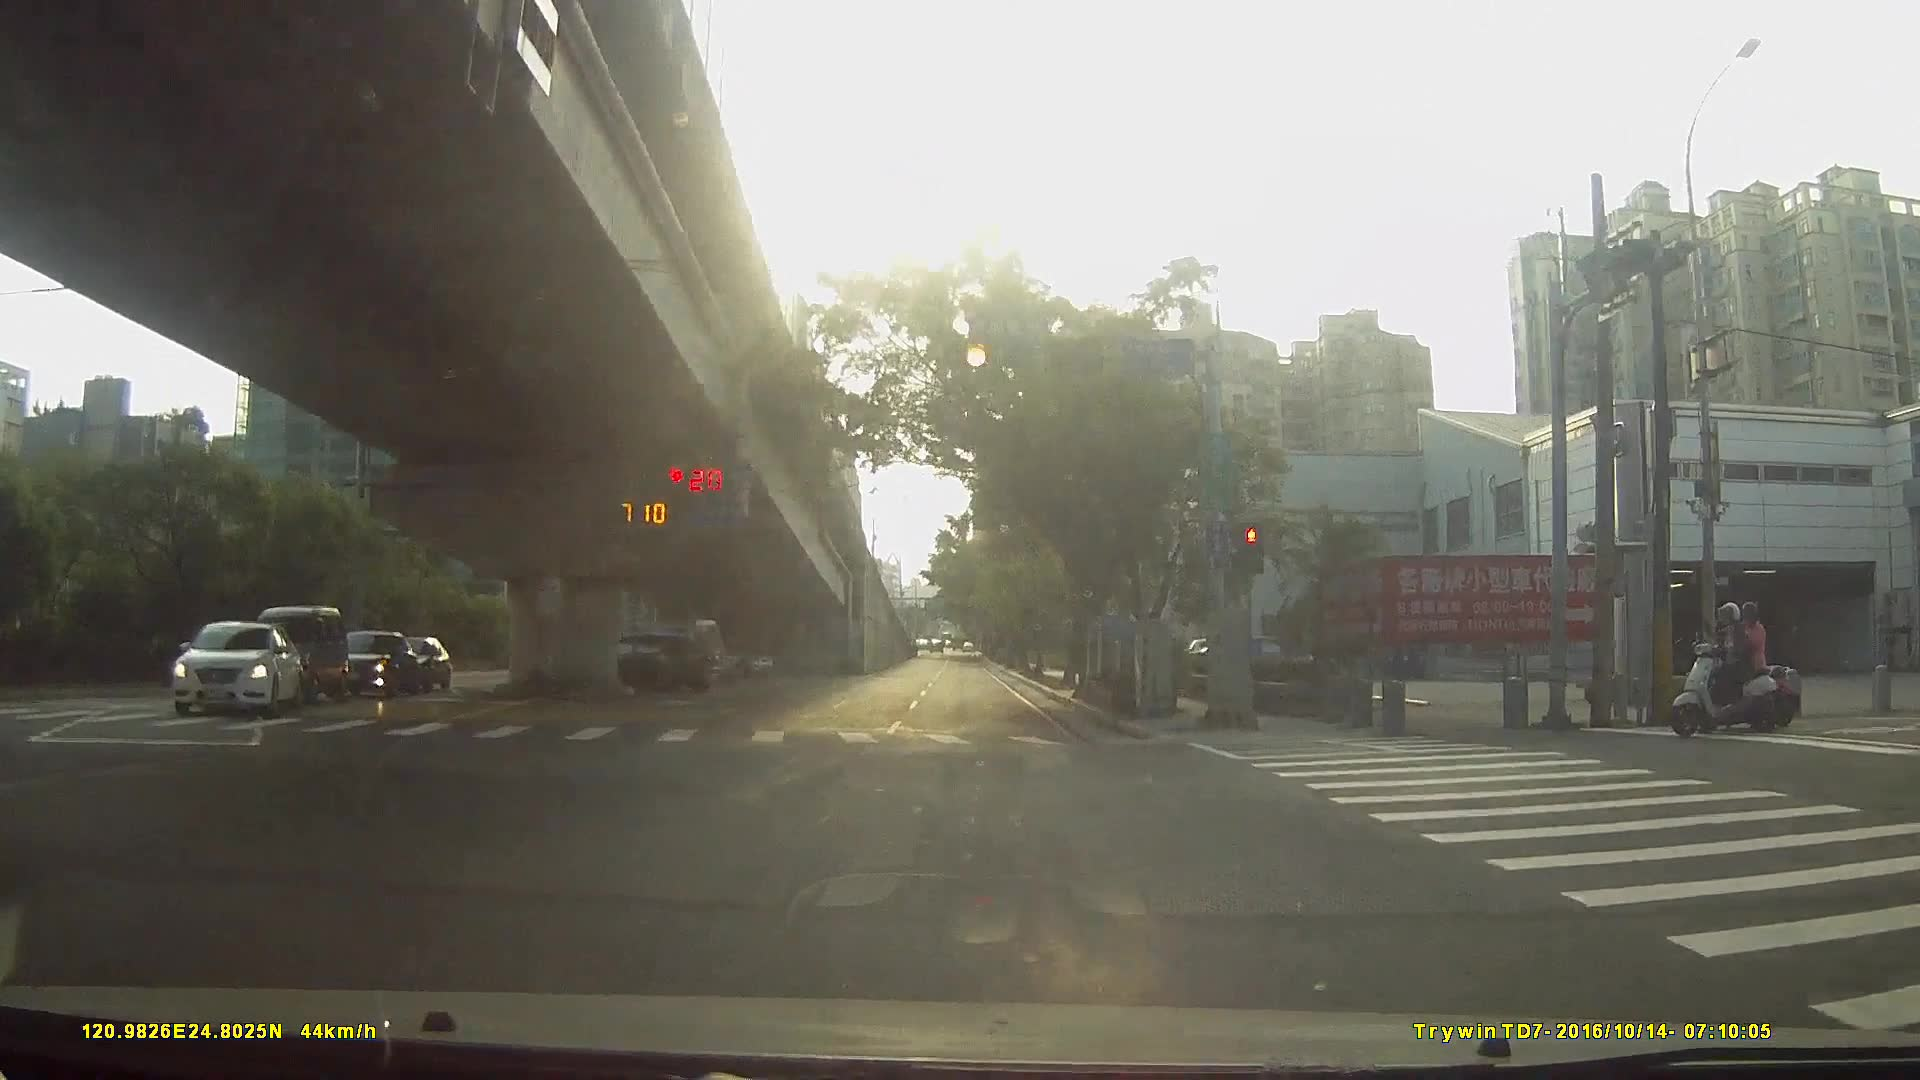rider: (1668, 602, 1791, 736)
vehicle: (159, 619, 297, 718), (569, 634, 716, 699), (247, 601, 341, 701), (319, 627, 416, 696), (375, 631, 450, 691), (678, 638, 774, 682)
